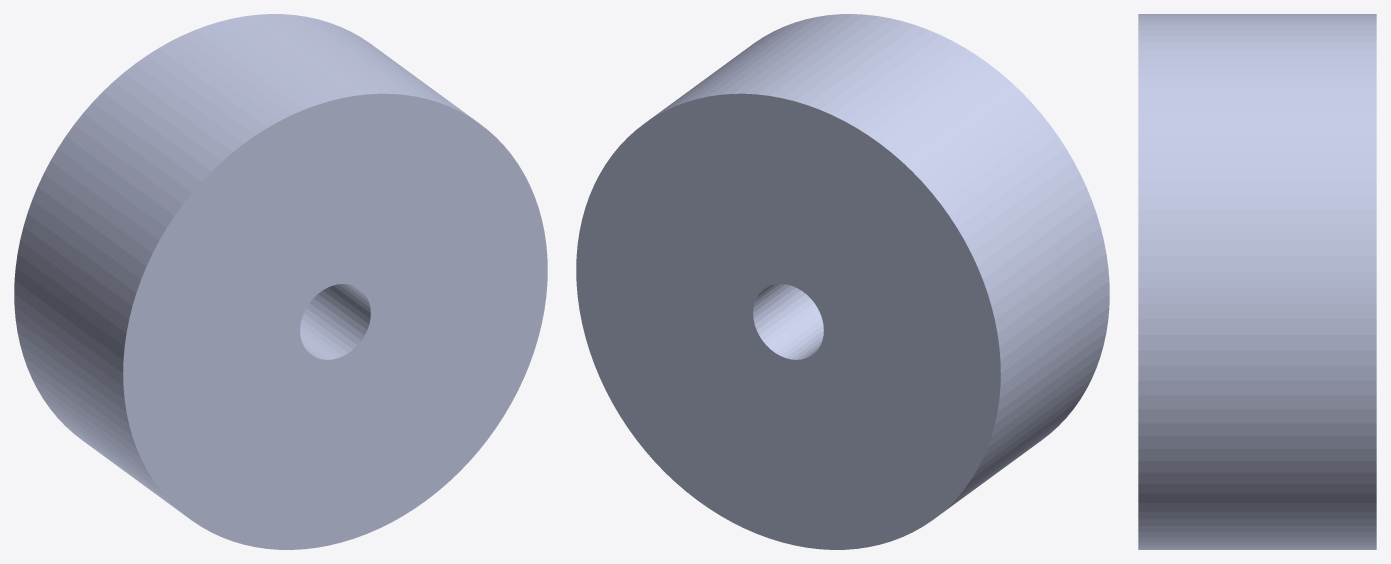
Rendered from Rueda_TraseraV1.0.dae.
3 views of the same model, side by side, from view 1: azimuth 30°, elevation 25°; view 2: azimuth 150°, elevation 25°; view 3: azimuth 270°, elevation 25° (orthographic). The views are drawn at different scales.
Parts seen in each view (by area): view 1: ID2; view 2: ID2; view 3: ID2.
Boxes of the visible parts, x1,y1,x2,y2 form: ID2: [14, 14, 547, 549]; ID2: [576, 14, 1109, 549]; ID2: [1138, 14, 1376, 549].
Size of the model in its own units: 0.09 by 0.04 by 0.09.
